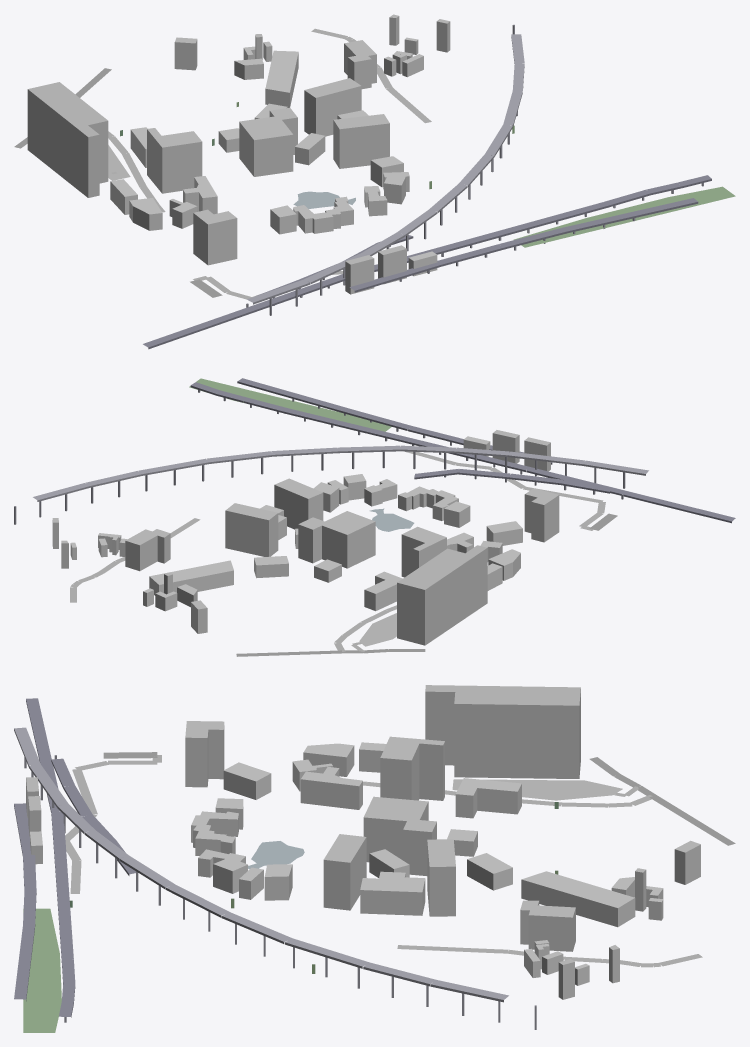
3 renders of one model, top to bottom at view 1: azimuth 30°, elevation 25°; view 2: azimuth 150°, elevation 25°; view 3: azimuth 270°, elevation 25°, orthographic. The views are drawn at different scales.
Bounding box in the file's own units: 605 × 63.97 × 535.
